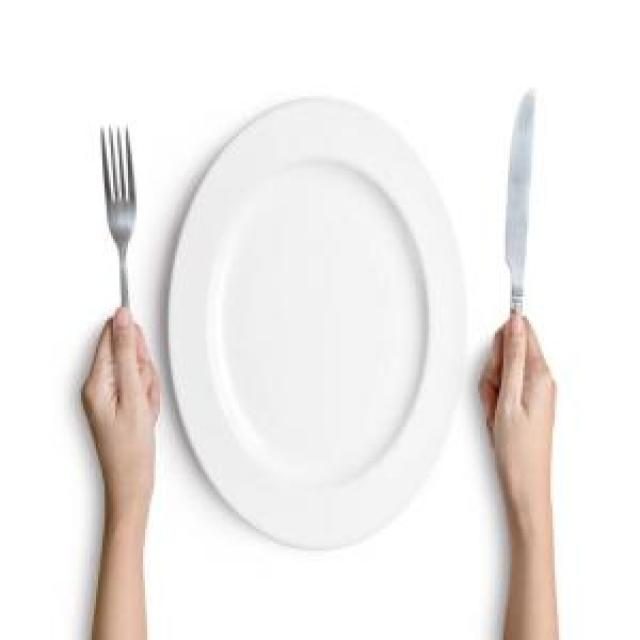knife: (495, 83, 539, 394)
